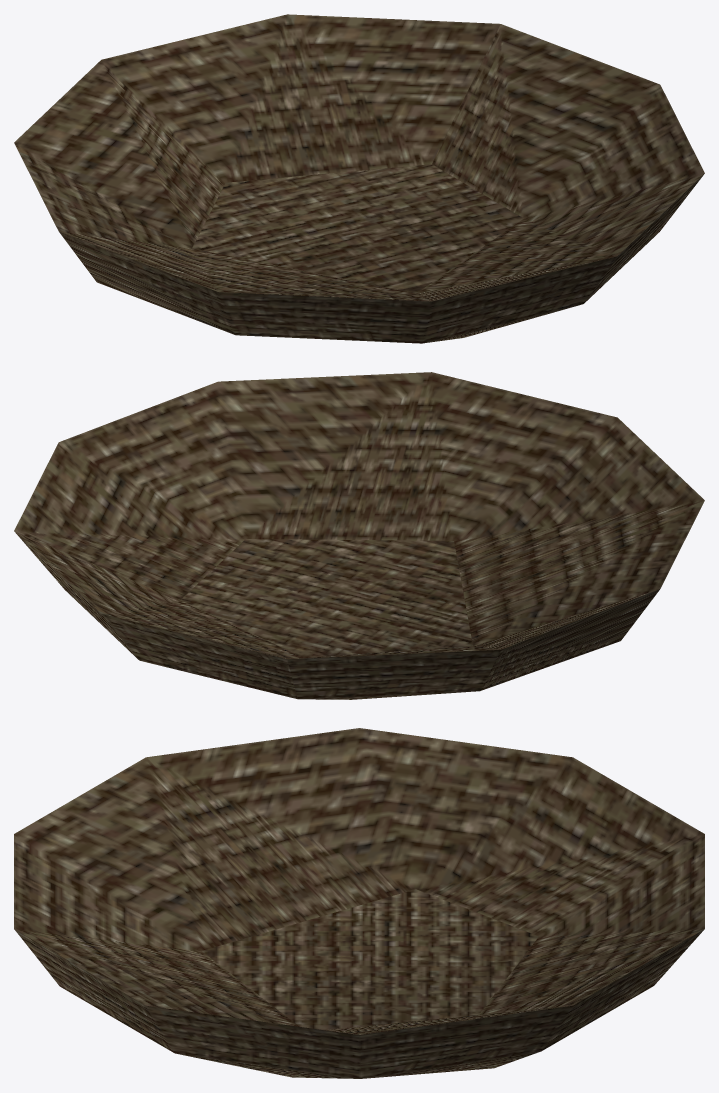
File: edb_con_tato_basket_s03_l1.fbx
The picture shows the model from 3 angles, top to bottom: view 1: azimuth 30°, elevation 25°; view 2: azimuth 150°, elevation 25°; view 3: azimuth 270°, elevation 25°; orthographic projection. The views are drawn at different scales.
Parts seen in each view (by area): view 1: mesh_node; view 2: mesh_node; view 3: mesh_node.
Boxes of the visible parts, x1=… form: mesh_node: x1=14, y1=14, x2=704, y2=343; mesh_node: x1=14, y1=372, x2=704, y2=699; mesh_node: x1=14, y1=728, x2=704, y2=1078.
Bounding box in the file's own units: 1.34 × 0.2197 × 1.27.
1 material, 1 textured.
